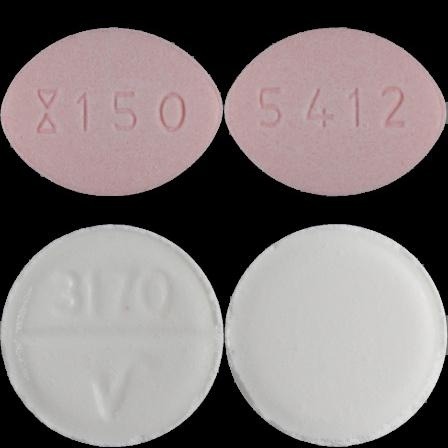61919-282: (0, 0, 224, 224)
